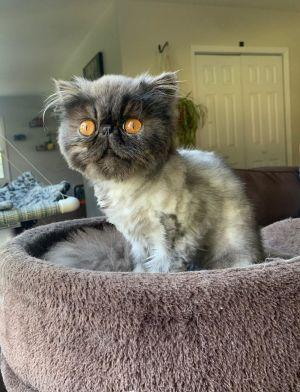persian: (42, 63, 186, 197)
